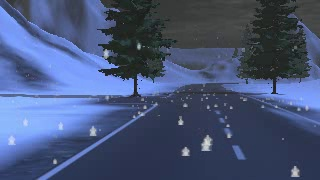Lane: (42, 82, 319, 179)
